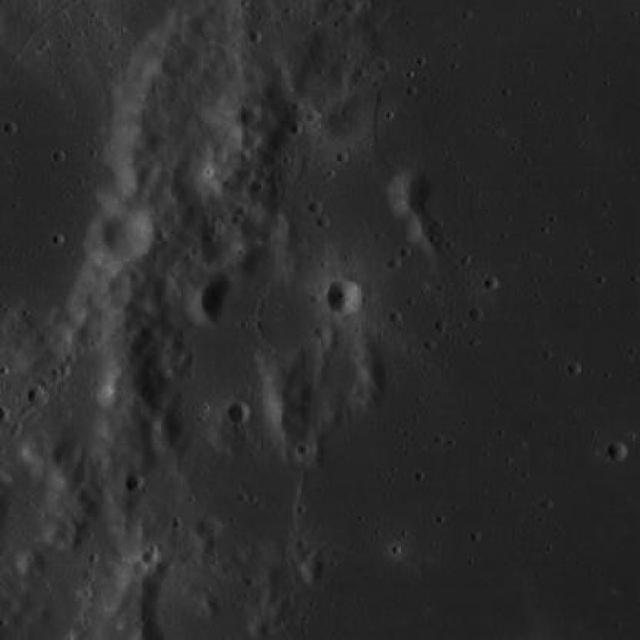crater: (257, 280, 325, 348), (308, 88, 367, 147), (192, 217, 245, 270), (104, 208, 154, 260), (168, 159, 218, 210), (96, 156, 138, 198), (328, 282, 364, 320), (206, 119, 240, 152), (134, 158, 162, 184), (194, 514, 220, 540), (230, 404, 252, 428), (239, 106, 261, 128), (607, 442, 627, 462), (240, 128, 260, 148), (318, 326, 337, 344), (128, 474, 144, 491), (130, 558, 147, 574), (468, 308, 484, 324), (0, 1, 1, 2)
